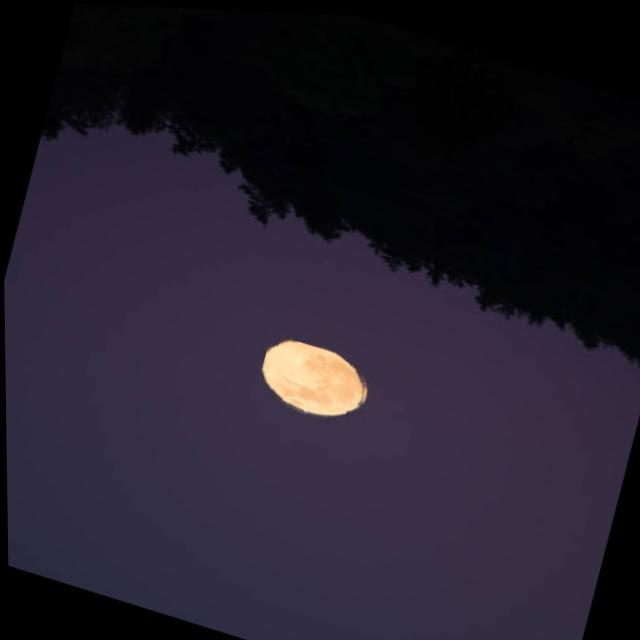moon: (251, 330, 374, 431)
